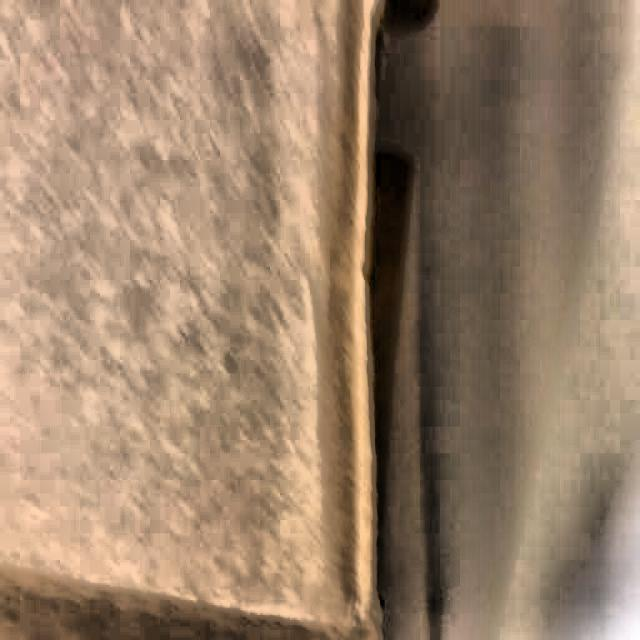cardboard: (1, 1, 600, 640)
